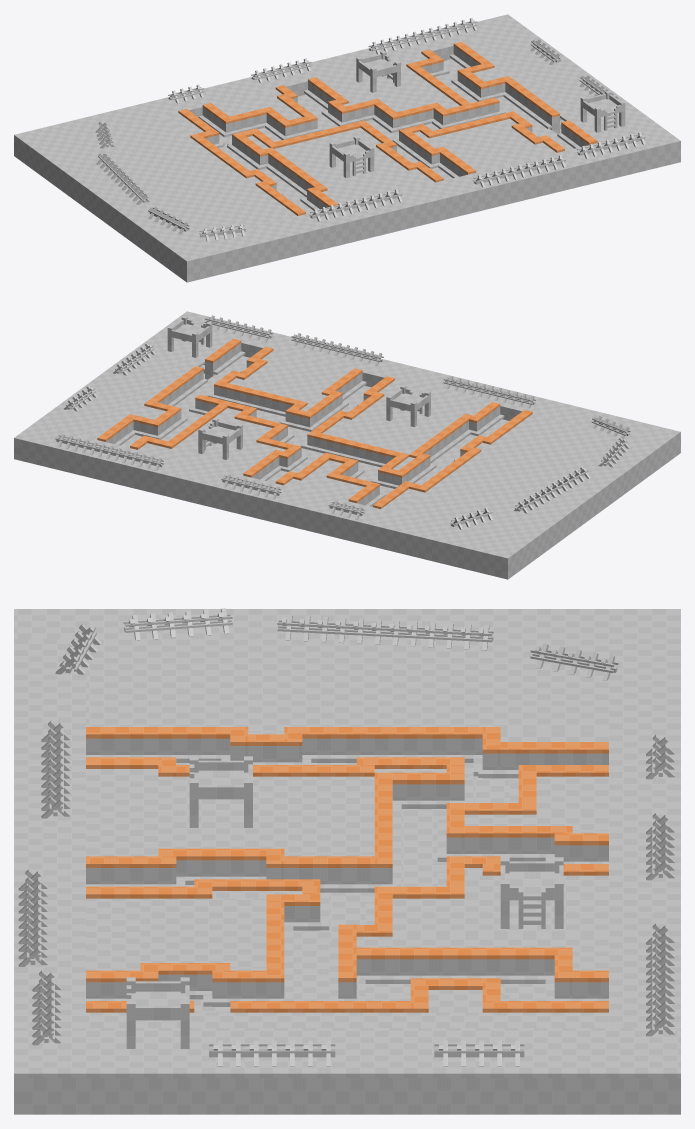
The model's file is Soldiers when they find out about wwiv.obj.
The picture shows the model from 3 angles, top to bottom: view 1: azimuth 30°, elevation 25°; view 2: azimuth 150°, elevation 25°; view 3: azimuth 270°, elevation 25°; orthographic projection. The views are drawn at different scales.
Parts seen in each view (by area): view 1: Part2885, Part764, Part1, Part1401, Part4826, Part2892, Part2829, Part3571, Part4740, Part2836, Part3599, Part3578 (+17 smaller); view 2: Part1401, Part764, Part1, Part4826, Part2885, Part2892, Part2829, Part3571, Part4740, Part3599, Part2836, Part3578 (+14 smaller); view 3: Part764, Part4826, Part4334, Part1401, Part2885, Part1, Part2829, Part2892, Part3571, Part4740, Part3599, Part2836 (+57 smaller).
Boxes of the visible parts, x1,y1,x2,y2 form: Part2885: (201,139,632,274); Part764: (65,117,297,239); Part1: (14,127,219,282); Part1401: (47,29,477,140); Part4826: (464,14,680,154); Part2892: (219,59,573,213); Part2829: (274,130,408,190); Part3571: (429,121,534,161); Part4740: (464,40,613,142); Part2836: (322,169,434,203); Part3599: (340,69,434,112); Part3578: (465,142,556,172); Part1401: (62,436,493,571); Part764: (397,414,629,536); Part1: (475,424,680,579); Part4826: (14,311,235,451); Part2885: (217,323,647,437); Part2892: (121,356,508,507); Part2829: (331,396,462,454); Part3571: (237,363,337,404); Part4740: (81,337,230,439); Part3599: (178,418,272,469); Part2836: (379,380,489,415); Part3578: (262,350,351,379); Part764: (86,639,608,730); Part4826: (14,1028,680,1077); Part4334: (18,1078,680,1114); Part1401: (609,639,680,1027); Part2885: (14,639,85,1027); Part1: (14,609,680,639); Part2829: (158,776,374,852); Part2892: (176,763,545,1012); Part3571: (140,898,266,966); Part4740: (86,1012,608,1027); Part3599: (392,898,608,936); Part2836: (86,769,158,856).
Size of the model in its own units: 305 by 26.28 by 185.
